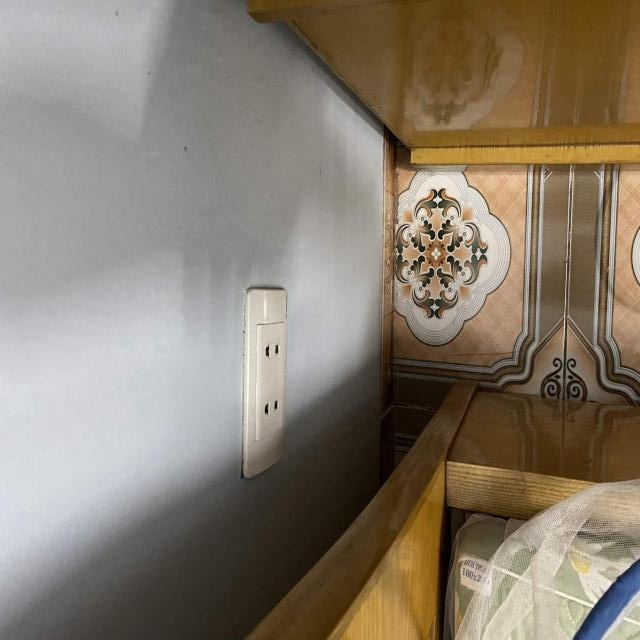outlet: (241, 288, 288, 480)
